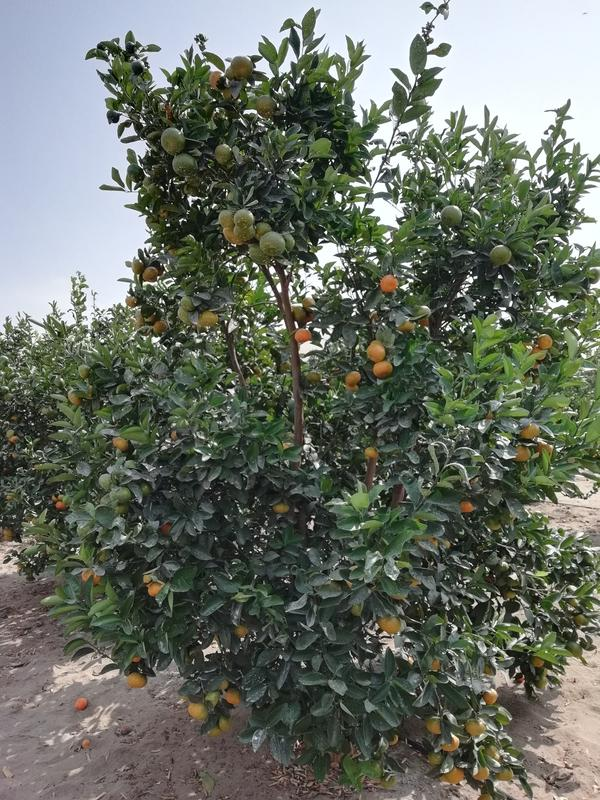mandarina naranja: (367, 341, 386, 362), (187, 703, 209, 720), (126, 672, 148, 688), (465, 718, 485, 735), (426, 716, 443, 736), (372, 362, 393, 378), (381, 618, 403, 633), (225, 687, 242, 705), (536, 333, 554, 350), (380, 275, 398, 292), (293, 328, 312, 343), (520, 426, 540, 440), (444, 770, 465, 783), (483, 688, 499, 705), (473, 767, 490, 781), (144, 267, 159, 282), (73, 697, 88, 711), (517, 446, 530, 462), (148, 582, 161, 598), (460, 500, 474, 513)
mandarina verde: (259, 231, 287, 257), (161, 128, 185, 155), (229, 56, 254, 81), (254, 94, 278, 118), (172, 155, 198, 177), (233, 209, 255, 230), (441, 204, 462, 226), (490, 245, 512, 265), (109, 486, 132, 504), (213, 143, 232, 163), (196, 312, 218, 326), (219, 209, 234, 229), (345, 371, 361, 387), (77, 364, 91, 380), (112, 437, 129, 450), (498, 767, 514, 780), (365, 447, 380, 459)
